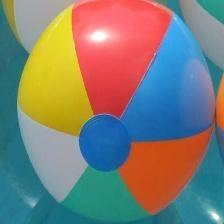Sports-Ball: (19, 0, 215, 222)
